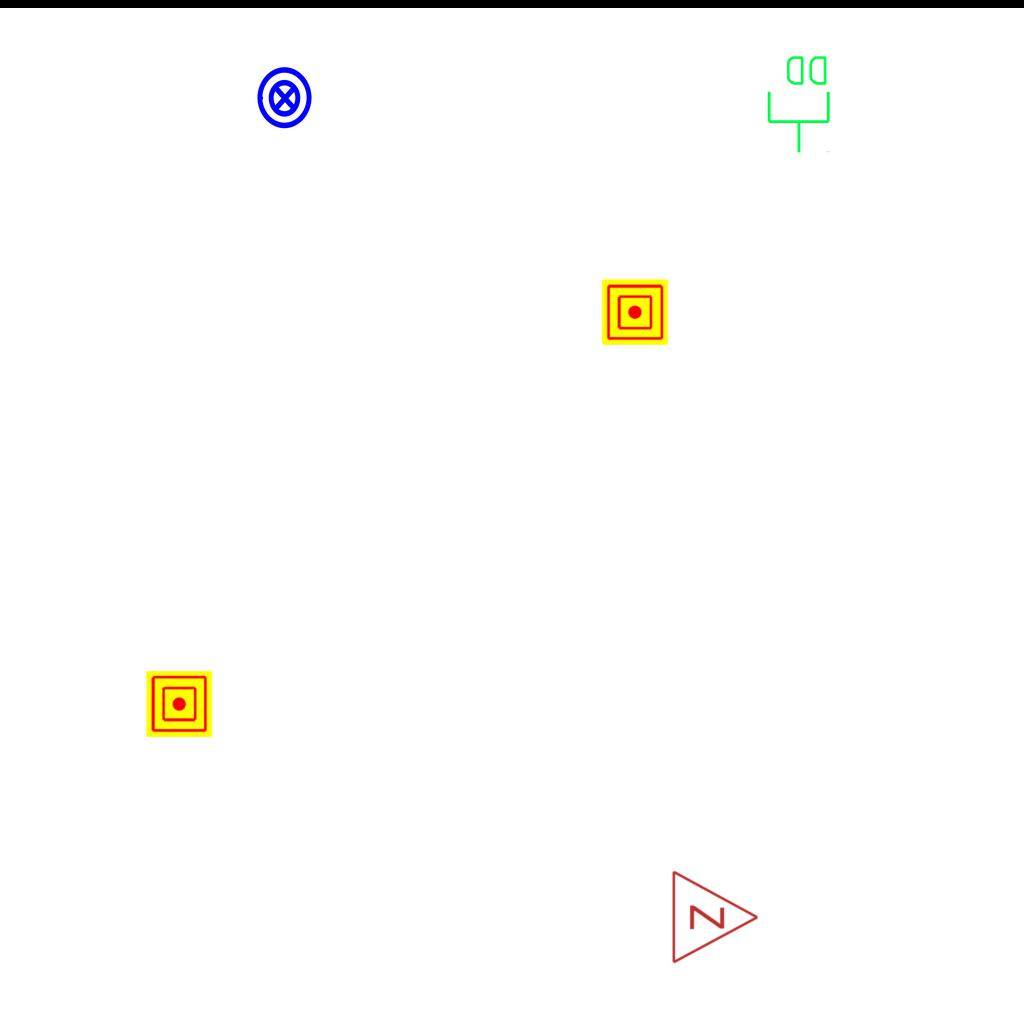Datenanschluss_zweifach: (765, 52, 834, 155)
NAM-Nichtautomatischer_Melder: (146, 671, 212, 737), (602, 279, 668, 345)
Taster_beleuchtet: (252, 65, 318, 131)
Zimmersignalleuchte: (665, 867, 765, 965)
